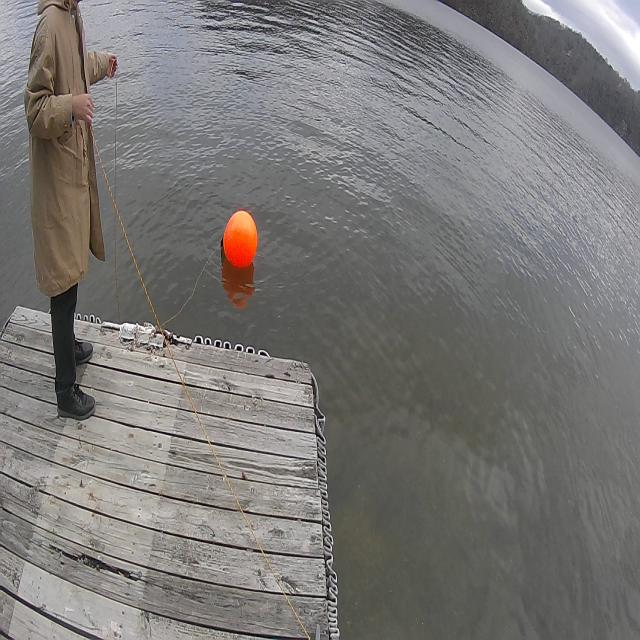Buoy: (219, 207, 259, 280)
